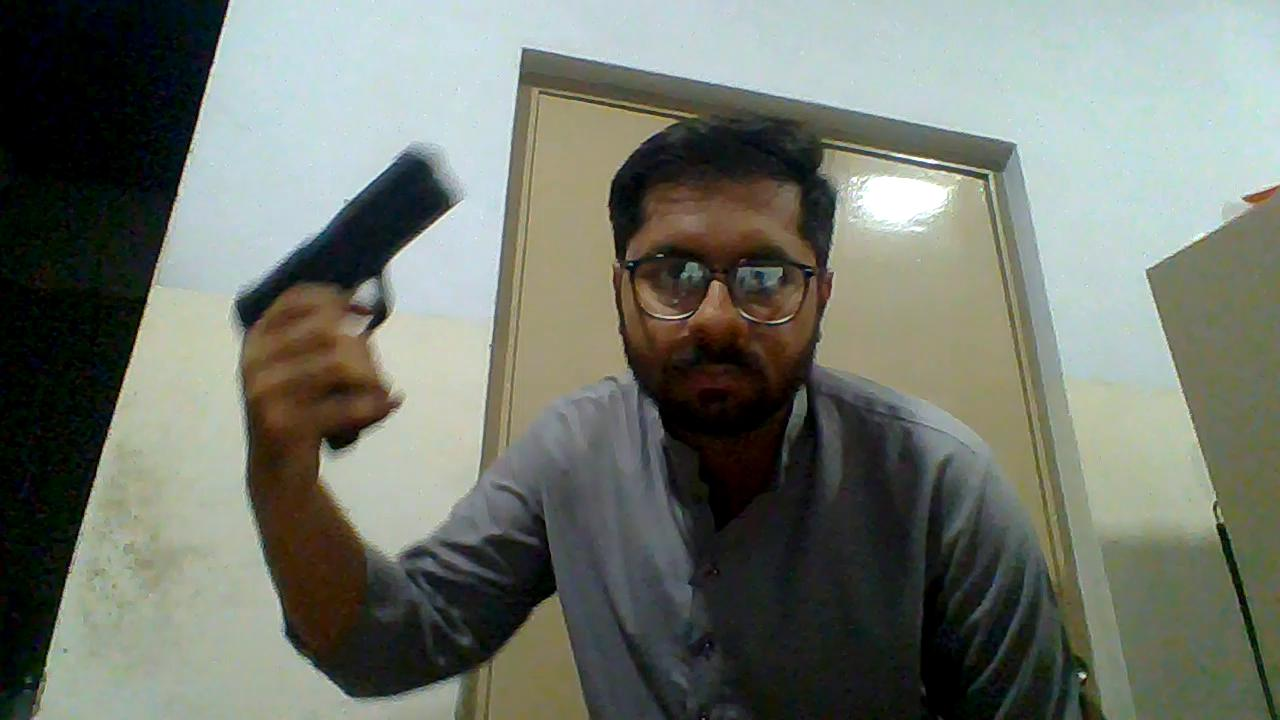criminal: (236, 107, 1086, 720)
weapon: (236, 143, 459, 455)
